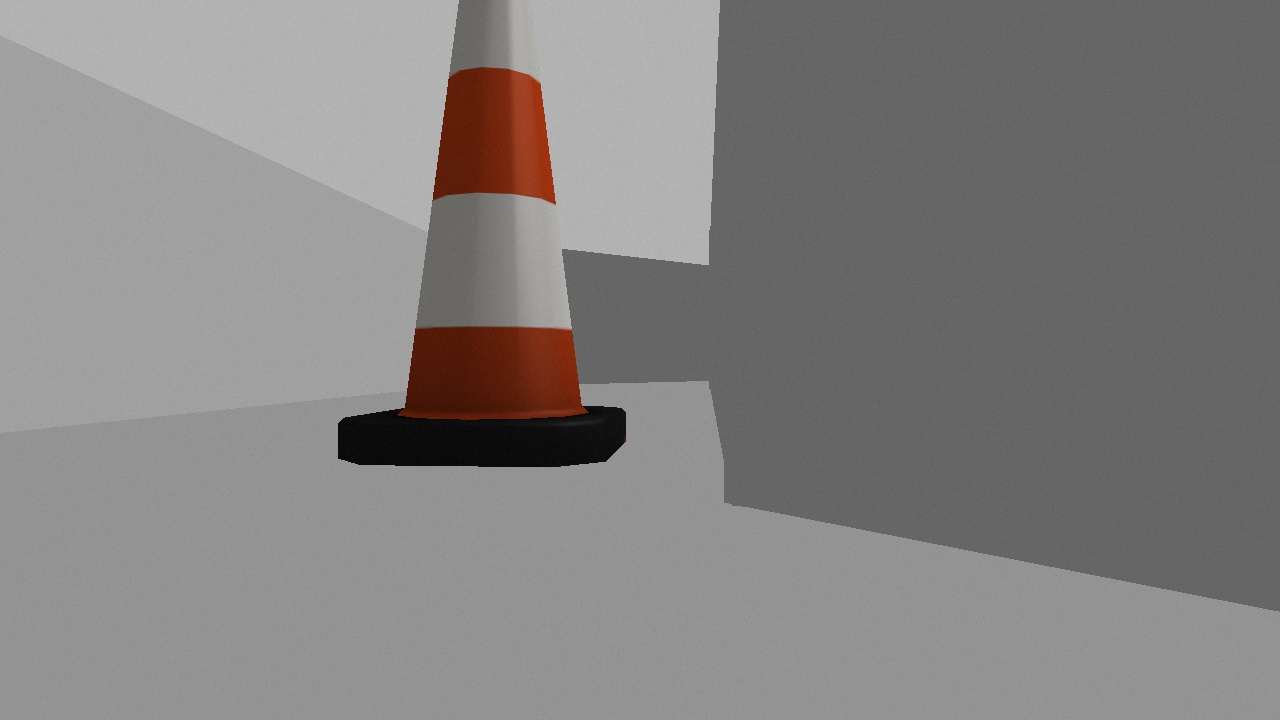barricade: (334, 1, 626, 468)
